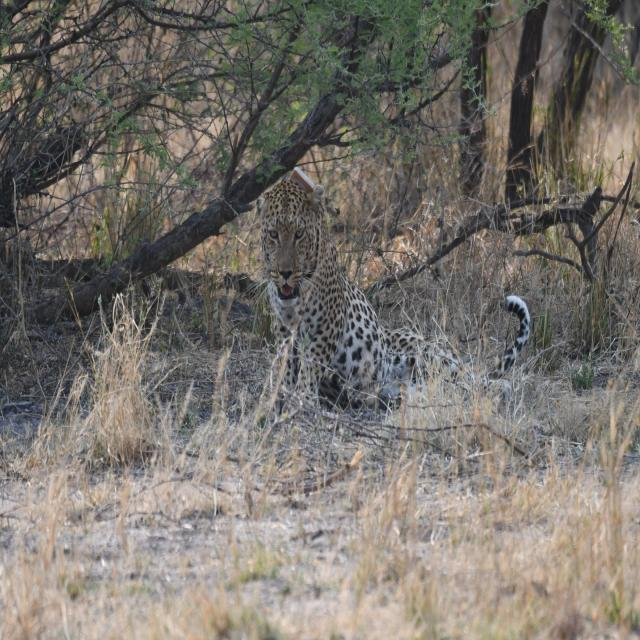Leopard: (252, 179, 527, 418)
